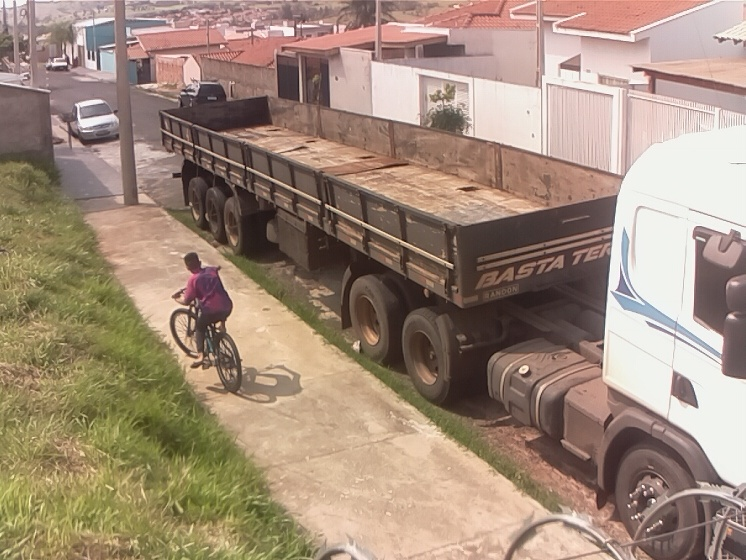person: (172, 249, 236, 371)
